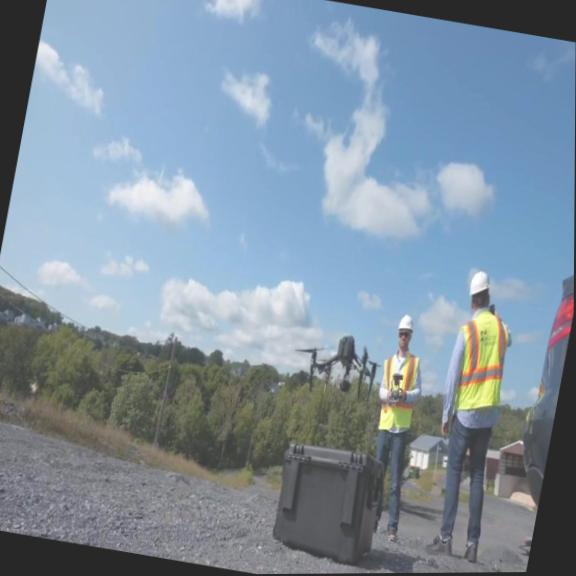safety_vest: (441, 306, 515, 418), (370, 349, 423, 431)
